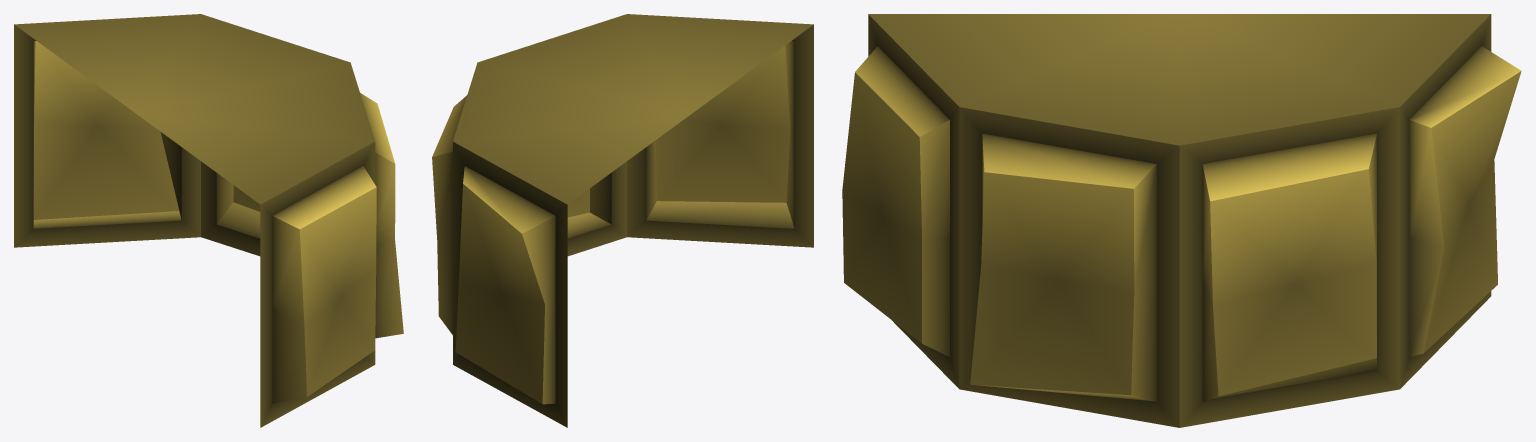
The model's file is HalfCircle1.fbx.
The picture shows the model from 3 angles, left to right: view 1: azimuth 30°, elevation 25°; view 2: azimuth 150°, elevation 25°; view 3: azimuth 270°, elevation 25°; orthographic projection. The views are drawn at different scales.
Parts seen in each view (by area): view 1: HalfCircle; view 2: HalfCircle; view 3: HalfCircle.
Part boxes in pixels (x1,y1,x2,y2): HalfCircle: (14, 14, 403, 427); HalfCircle: (432, 14, 813, 427); HalfCircle: (842, 14, 1521, 427).
Size of the model in its own units: 109 by 100 by 218.
